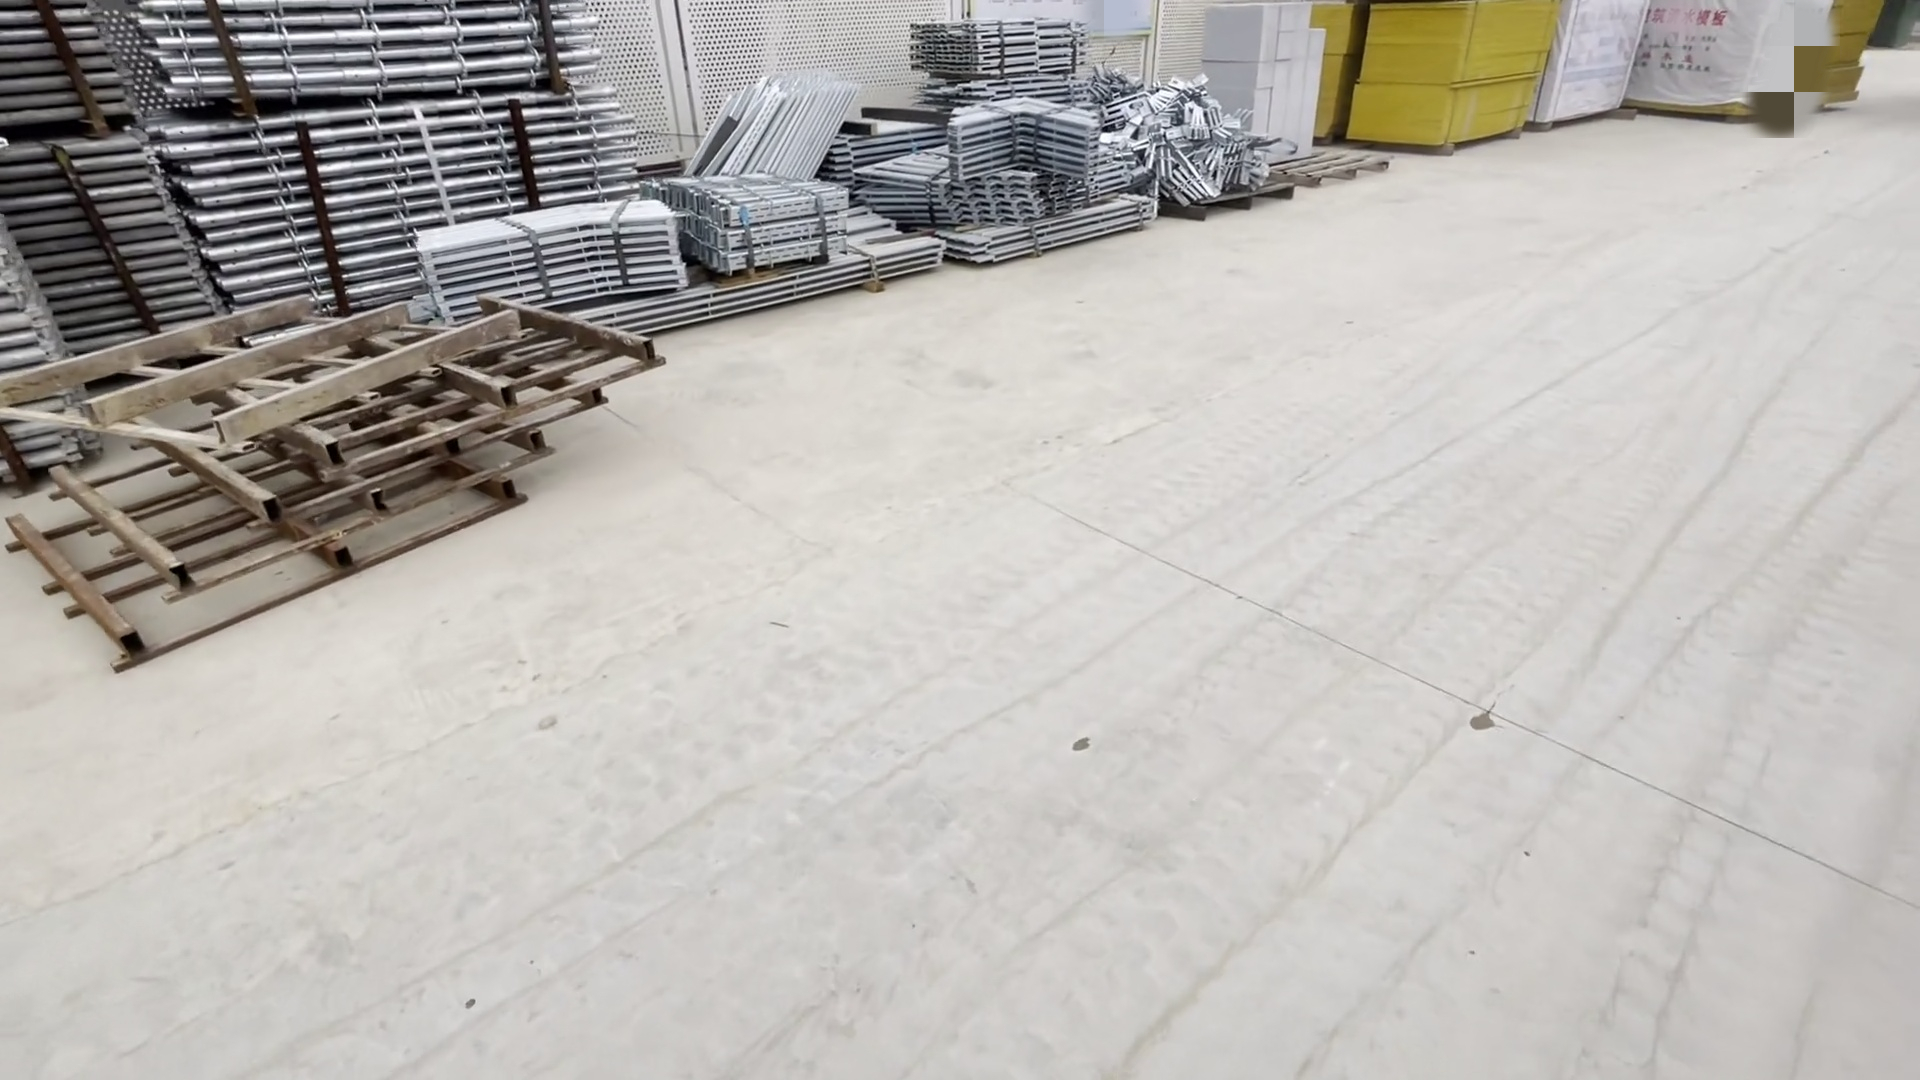board: (1352, 1, 1557, 152)
brick: (1211, 1, 1328, 167)
scaffold: (4, 7, 684, 404), (691, 25, 1278, 299)
